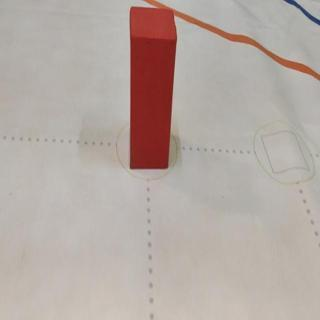redbox: (128, 5, 178, 169)
